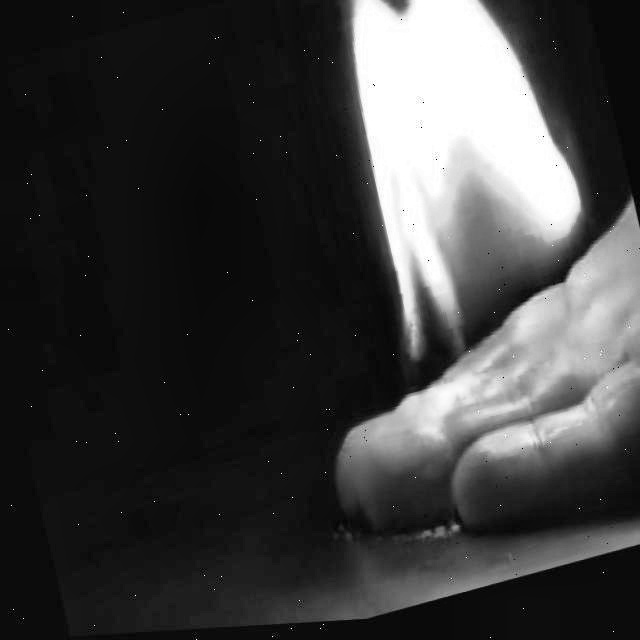Fire: (332, 0, 616, 395)
